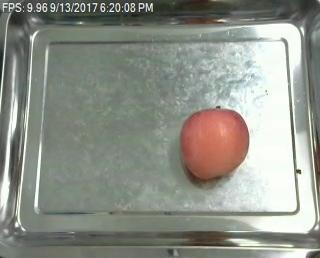apple: (180, 105, 251, 182)
